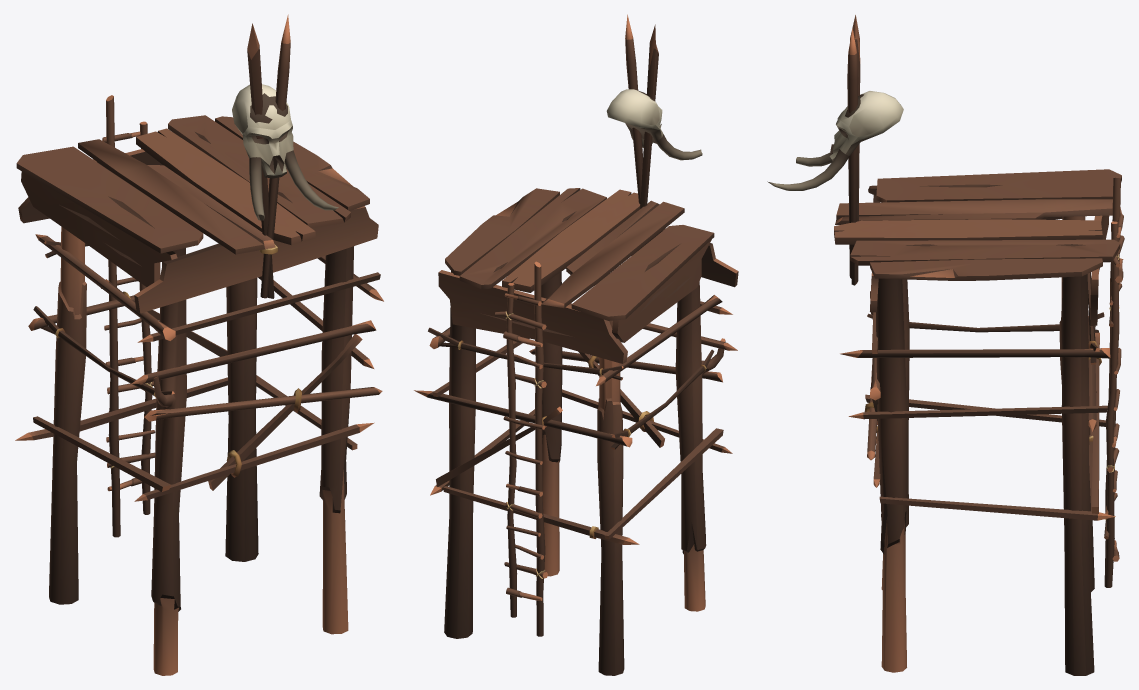
Rendered from Tower_1B.fbx.
The picture shows the model from 3 angles, left to right: view 1: azimuth 30°, elevation 25°; view 2: azimuth 150°, elevation 25°; view 3: azimuth 270°, elevation 25°; orthographic projection. The views are drawn at different scales.
Parts seen in each view (by area): view 1: Tower_1B; view 2: Tower_1B; view 3: Tower_1B.
Boxes of the visible parts, x1=… form: Tower_1B: x1=15, y1=14, x2=383, y2=675; Tower_1B: x1=414, y1=14, x2=738, y2=675; Tower_1B: x1=767, y1=15, x2=1124, y2=675.
Size of the model in its own units: 4.88 by 11.42 by 6.09.
